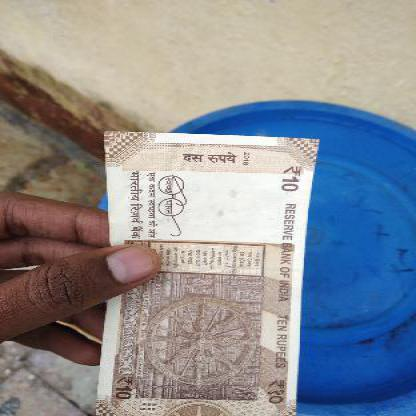New10Back: (104, 130, 293, 414)
